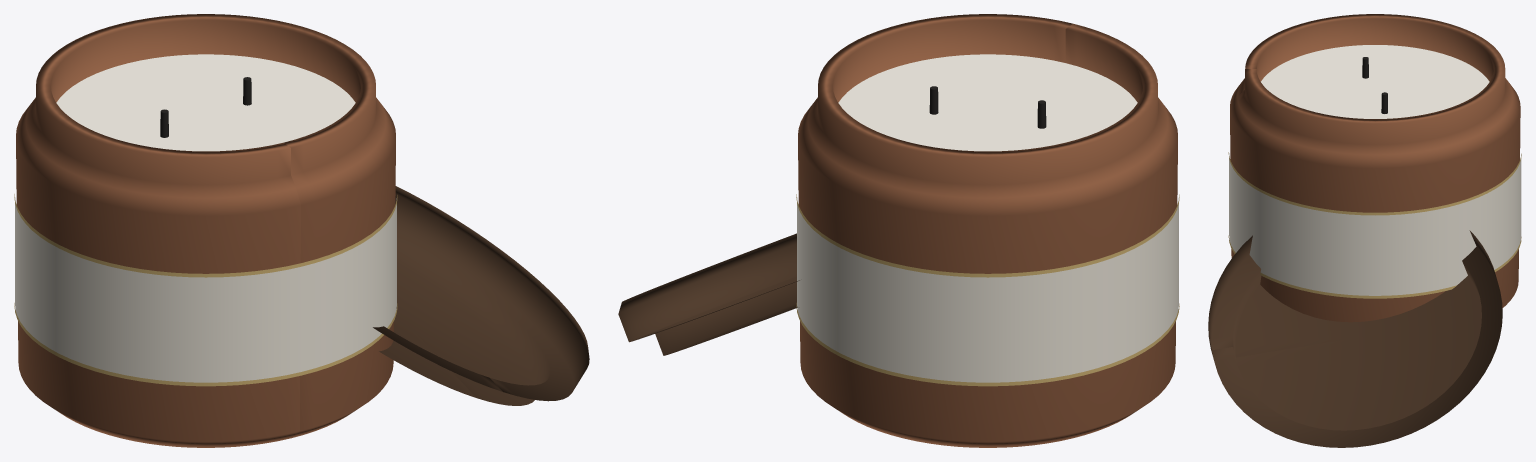
The model's file is scented_jar_candle.glb.
The picture shows the model from 3 angles, left to right: view 1: azimuth 30°, elevation 25°; view 2: azimuth 150°, elevation 25°; view 3: azimuth 270°, elevation 25°; orthographic projection. The views are drawn at different scales.
Bounding box in the file's own units: 2.37 × 1.5 × 1.64.
